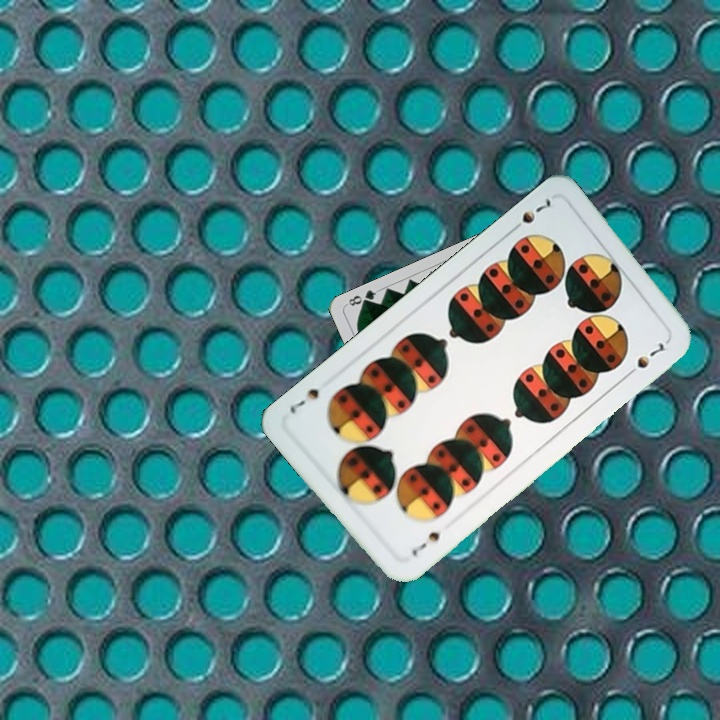S7: (506, 194, 554, 236), (408, 526, 446, 559)
